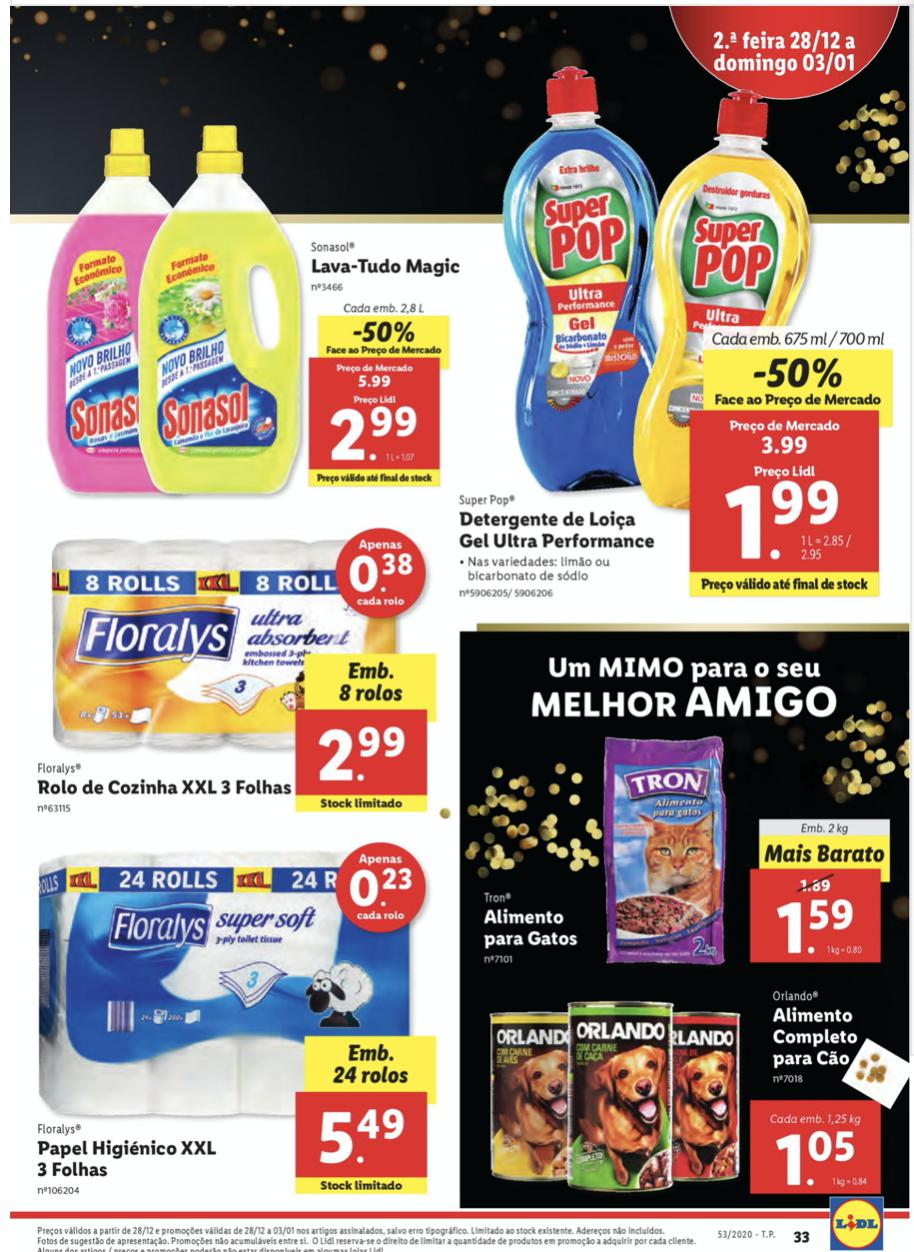name: (457, 506, 661, 555), (32, 1134, 219, 1180), (36, 775, 296, 802), (769, 1006, 861, 1069), (477, 906, 588, 948), (305, 253, 458, 283)
price: (725, 477, 860, 562), (319, 398, 430, 467), (313, 723, 407, 789), (310, 1103, 405, 1164), (772, 1130, 857, 1189), (772, 898, 853, 958)
product: (436, 55, 900, 614), (10, 142, 482, 530), (25, 816, 436, 1208), (16, 534, 436, 819), (461, 722, 897, 975), (466, 984, 902, 1202)
promotion: (747, 353, 850, 398), (346, 316, 419, 348)
